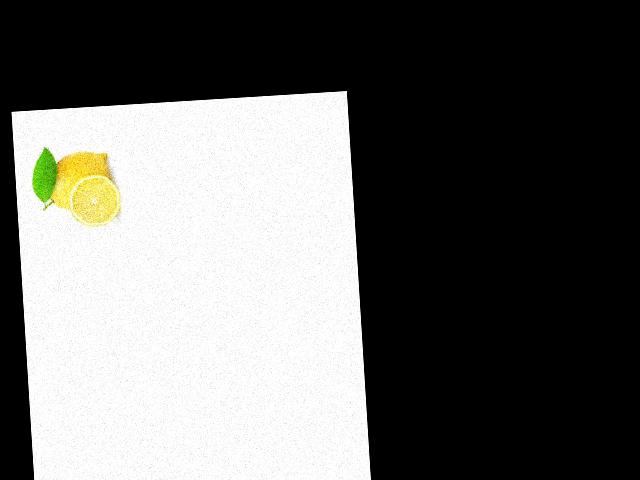lemon: (38, 148, 117, 219)
